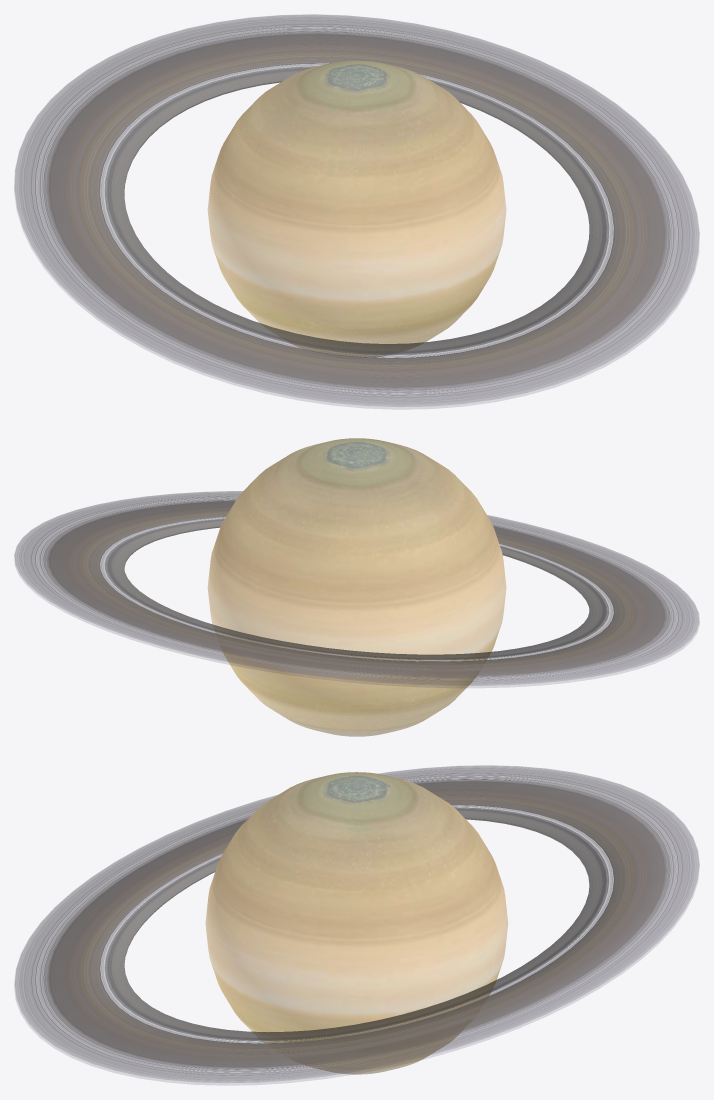
File: saturn.glb
3 renders of one model, top to bottom at view 1: azimuth 30°, elevation 25°; view 2: azimuth 150°, elevation 25°; view 3: azimuth 270°, elevation 25°, orthographic.
Visible parts, largest first — view 1: Saturn; view 2: Saturn; view 3: Saturn.
Boxes of the visible parts, left/top/right/bottom form: Saturn: left=14, top=14, right=699, bottom=407; Saturn: left=14, top=438, right=699, bottom=736; Saturn: left=14, top=765, right=699, bottom=1083.
Size of the model in its own units: 1309 by 568 by 1286.
Materials: 2 (2 with a texture image).
